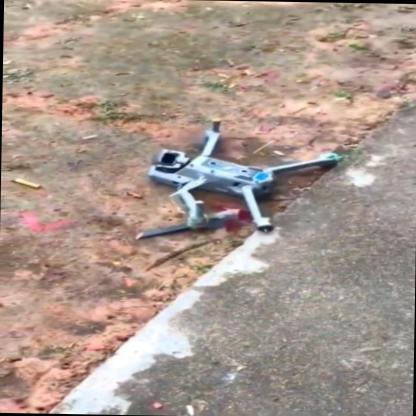drone: (133, 117, 345, 245)
